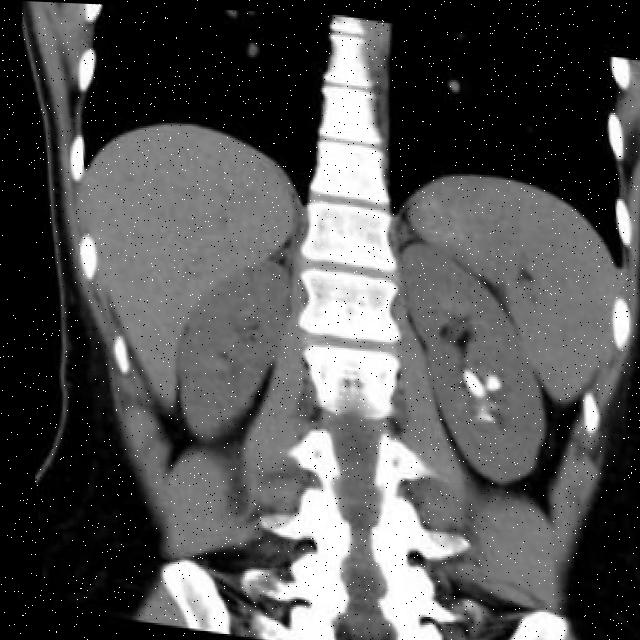Tas_Var: (453, 362, 483, 395), (477, 368, 502, 391), (475, 407, 493, 419)
